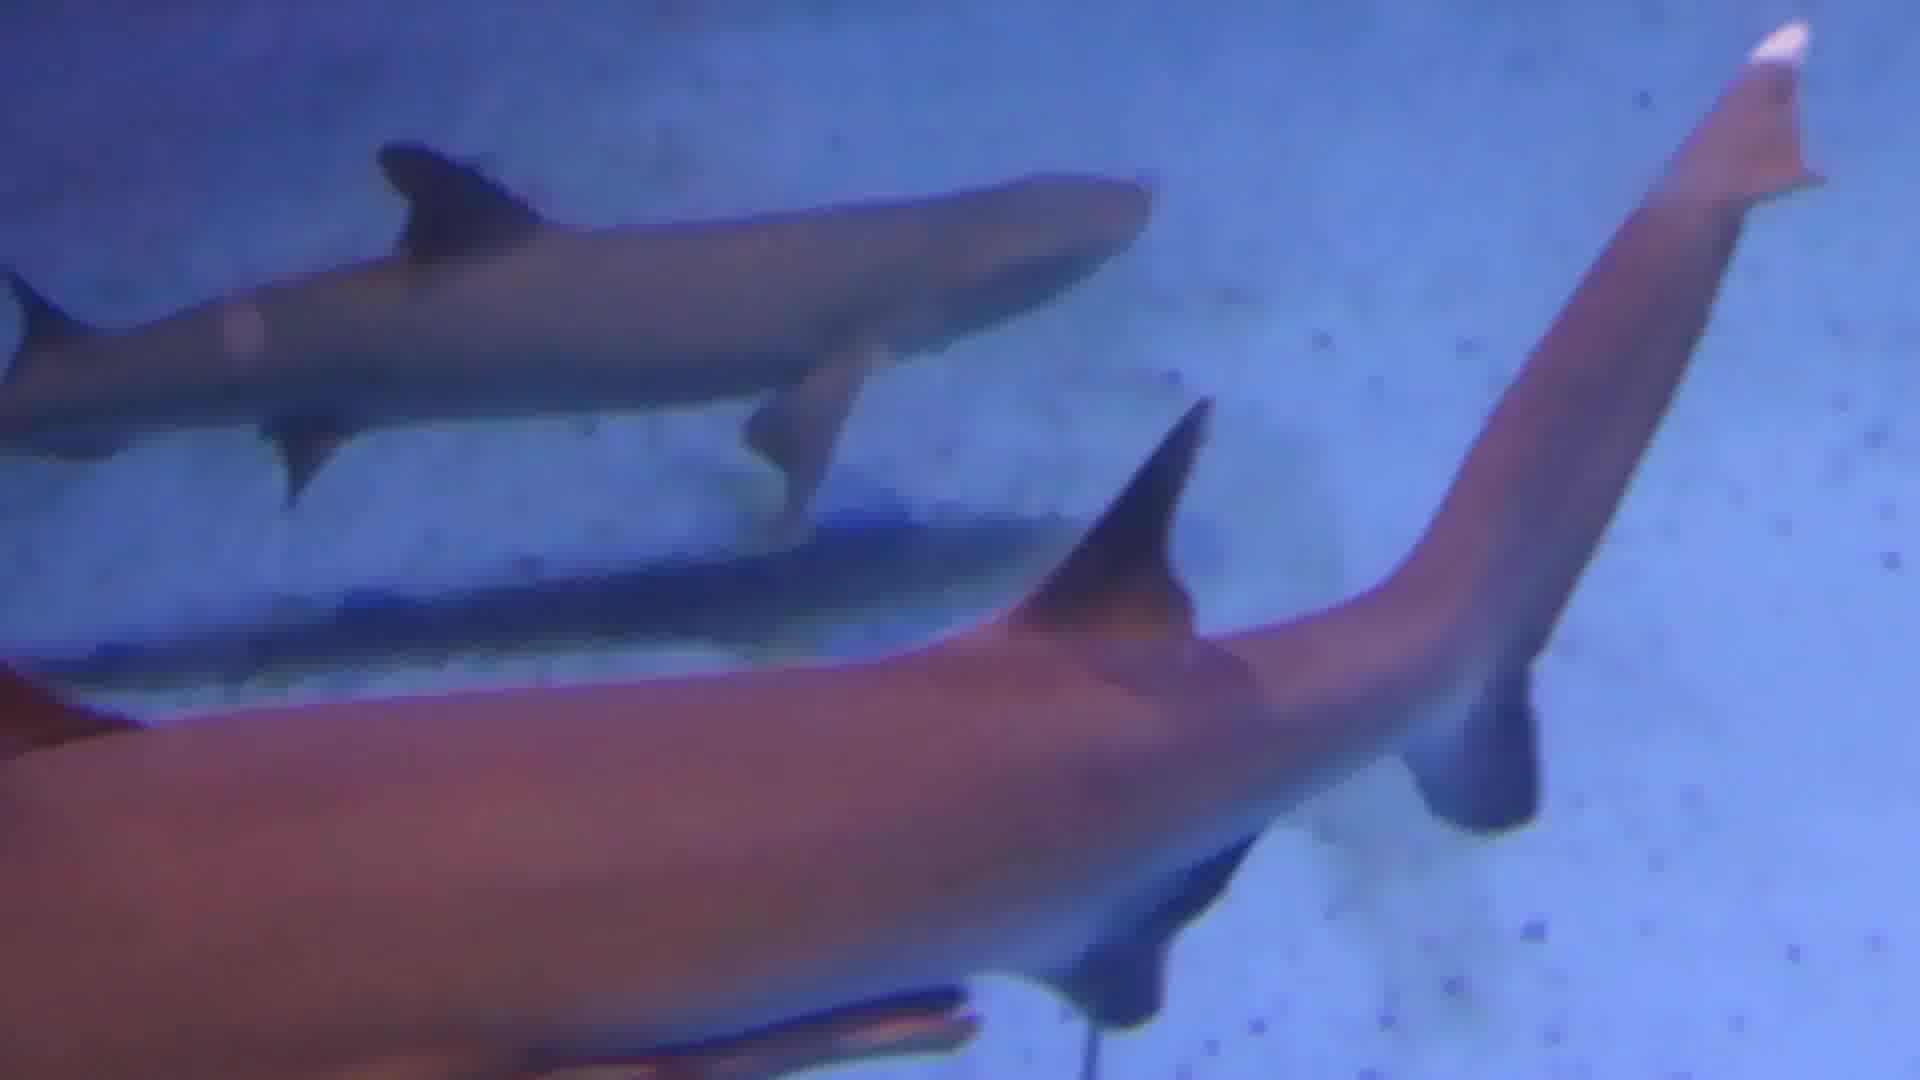Triaenodon obesus: (1, 480, 1536, 1080), (1, 1, 1218, 473)
